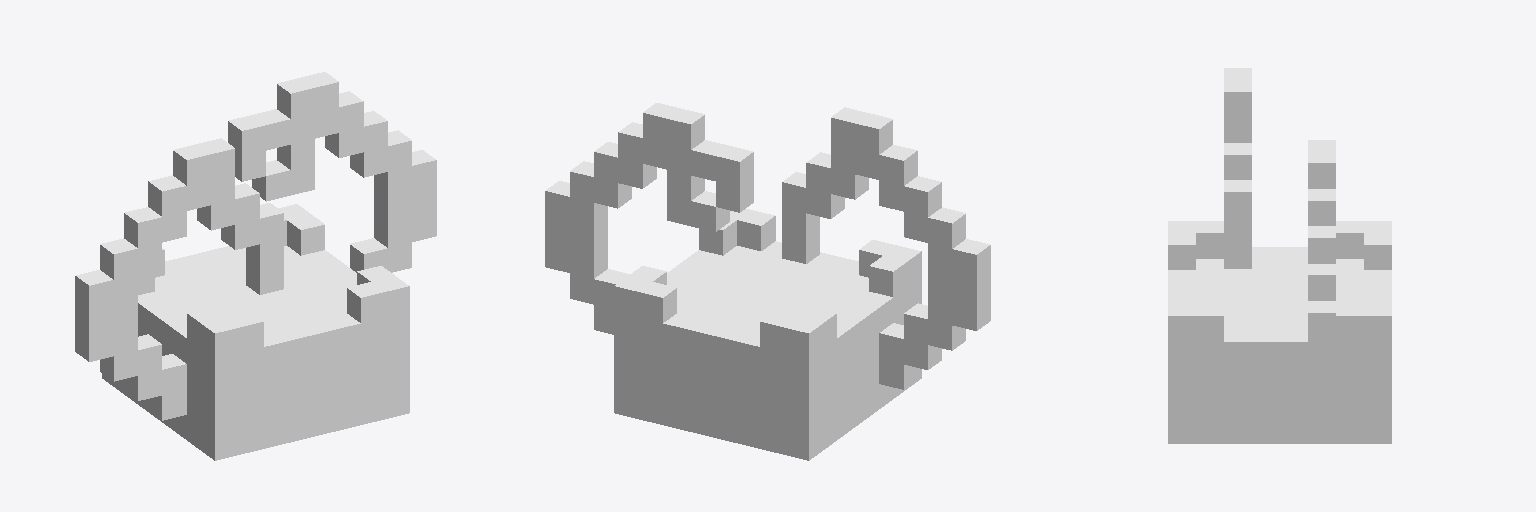
Rendered from BuildingAssembly.obj.
3 renders of one model, left to right at view 1: azimuth 30°, elevation 25°; view 2: azimuth 150°, elevation 25°; view 3: azimuth 270°, elevation 25°, orthographic.
Parts seen in each view (by area): view 1: object 1; view 2: object 1; view 3: object 1.
Boxes of the visible parts, <box> form: object 1: <box>75,72,436,460</box>; object 1: <box>545,103,990,460</box>; object 1: <box>1168,68,1391,443</box>.
Bounding box in the file's own units: 1.6 × 1.1 × 0.8.